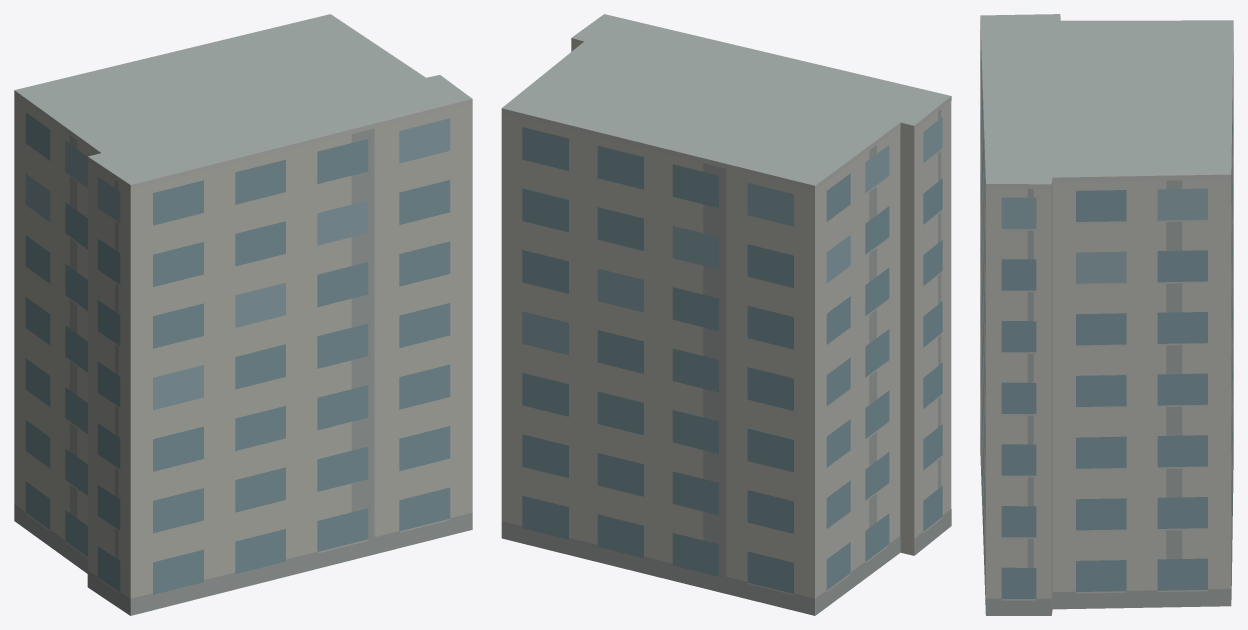
Rendered from survey-upis-32941040.glb.
The picture shows the model from 3 angles, left to right: view 1: azimuth 30°, elevation 25°; view 2: azimuth 150°, elevation 25°; view 3: azimuth 270°, elevation 25°; orthographic projection.
Parts seen in each view (by area): view 1: survey-upis-32941040.tmp; view 2: survey-upis-32941040.tmp; view 3: survey-upis-32941040.tmp.
Part boxes in pixels (x1=…): survey-upis-32941040.tmp: x1=14, y1=14, x2=472, y2=615; survey-upis-32941040.tmp: x1=501, y1=14, x2=951, y2=615; survey-upis-32941040.tmp: x1=980, y1=14, x2=1233, y2=615.
Size of the model in its own units: 18.06 by 21.35 by 11.37.
